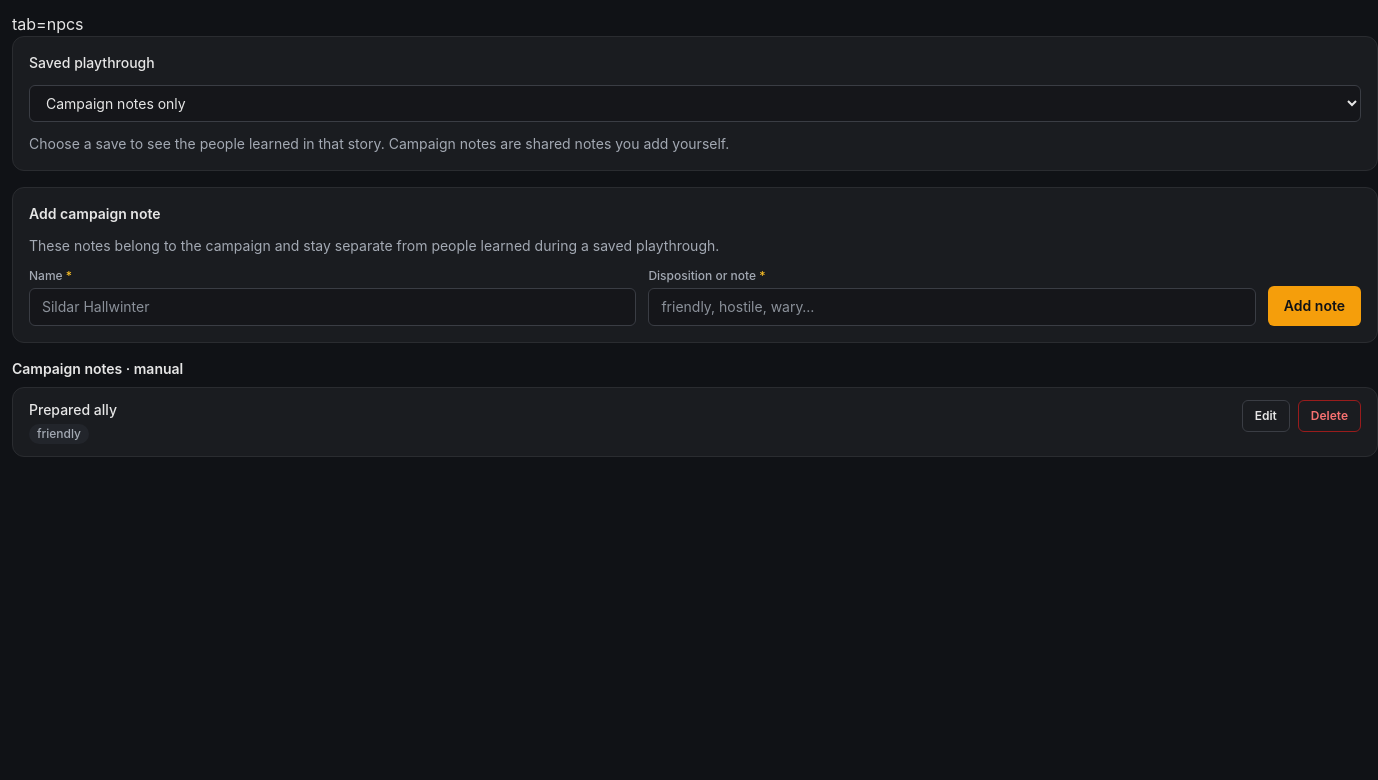
Test: shows edits for campaign notes and keeps learned rows system-managed
Select "Session 1 · Oct 13, 2026, 10:00 AM" in the dropdown with id "npc-session" at point(695, 104), box [29,85,1361,122]
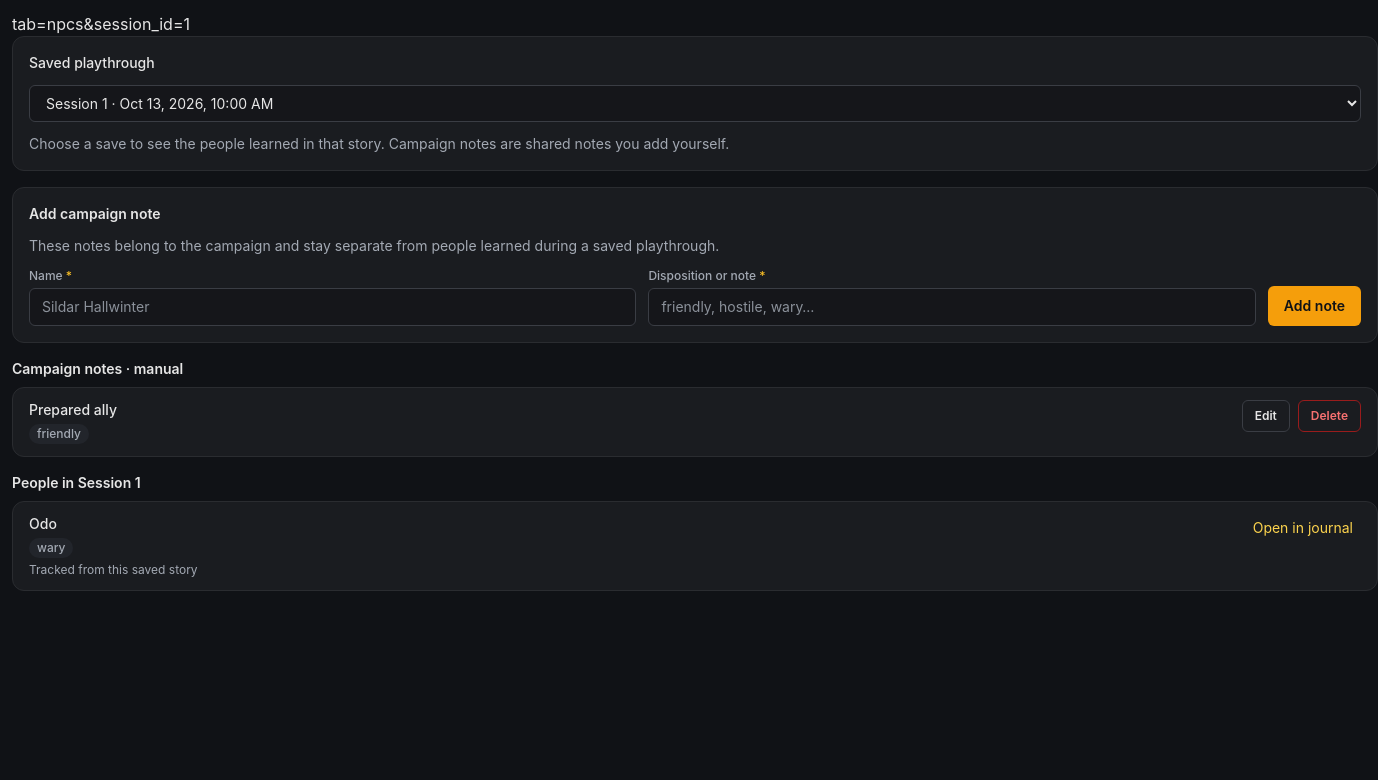
Expected: the button with aria-label "Delete Prepared ally" is shown, [1298,400,1361,432]
Result: the text "Tracked from this saved story" is shown at [29,562,198,578]
